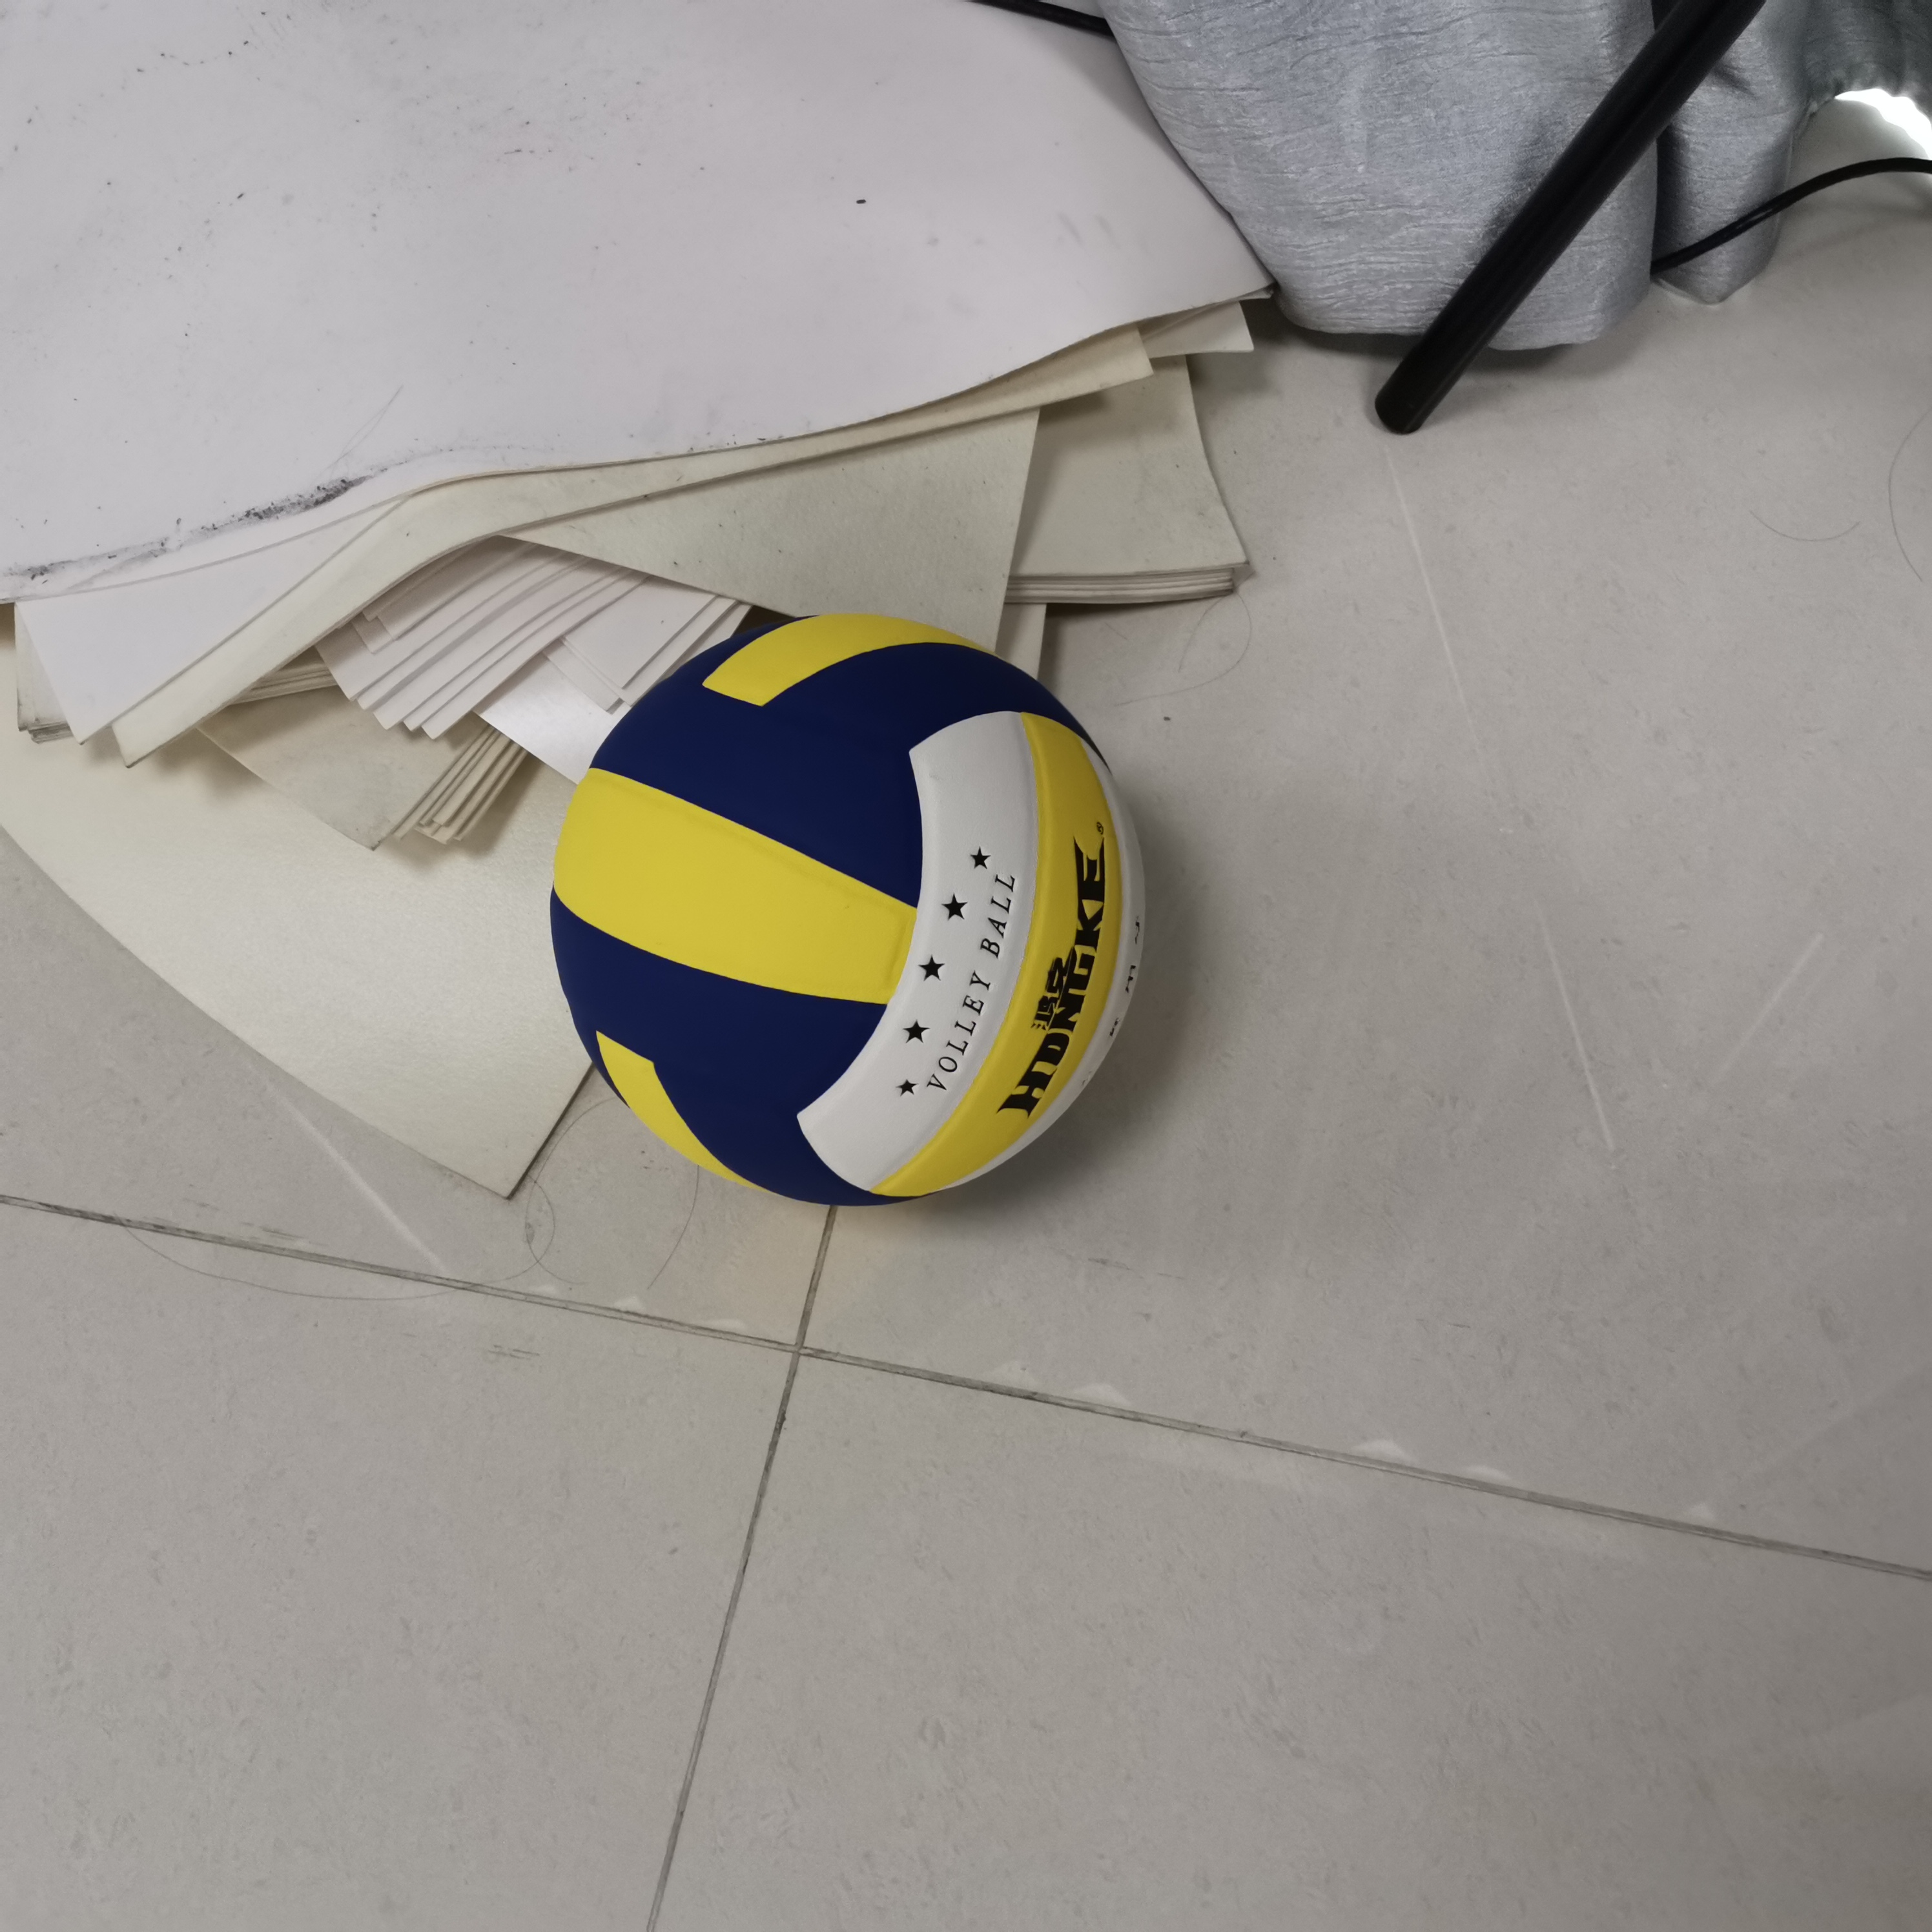volleyball: (552, 625, 1148, 1208)
